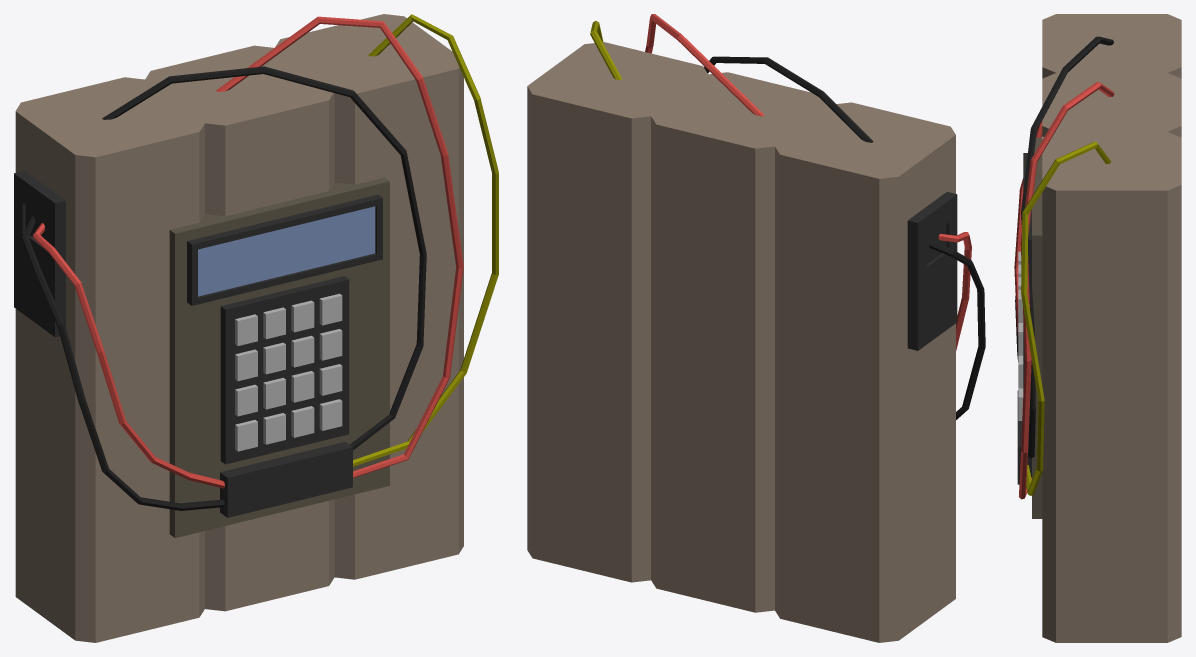
3 views of the same model, side by side, from view 1: azimuth 30°, elevation 25°; view 2: azimuth 150°, elevation 25°; view 3: azimuth 270°, elevation 25° (orthographic). The views are drawn at different scales.
Parts seen in each view (by area): view 1: C4; view 2: C4; view 3: C4.
Boxes of the visible parts, <box> form: C4: <box>14,14,498,642</box>; C4: <box>527,14,985,642</box>; C4: <box>1014,14,1181,642</box>.
Size of the model in its own units: 0.2053 by 0.2393 by 0.0718.
